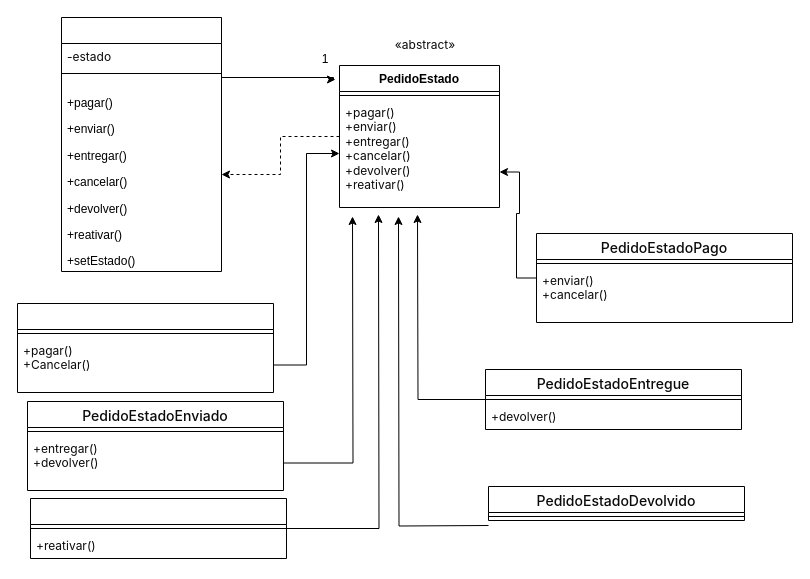
The diagram is 810 pixels wide and 579 high, and some of its shapes have lost their labels. The shapes that lost their labels are listed below. From the top down, each one's box as (x1, y1, x2, y2) in pixels, then its label:
(60, 16, 222, 272): Pedido
(16, 302, 274, 392): PedidoEstadoAguardandoPagamento
(30, 498, 286, 558): PedidoEstadoCancelado
